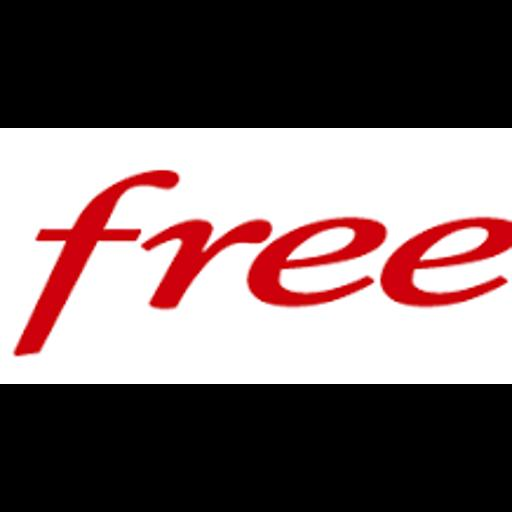Free ISP: (0, 128, 512, 384)
